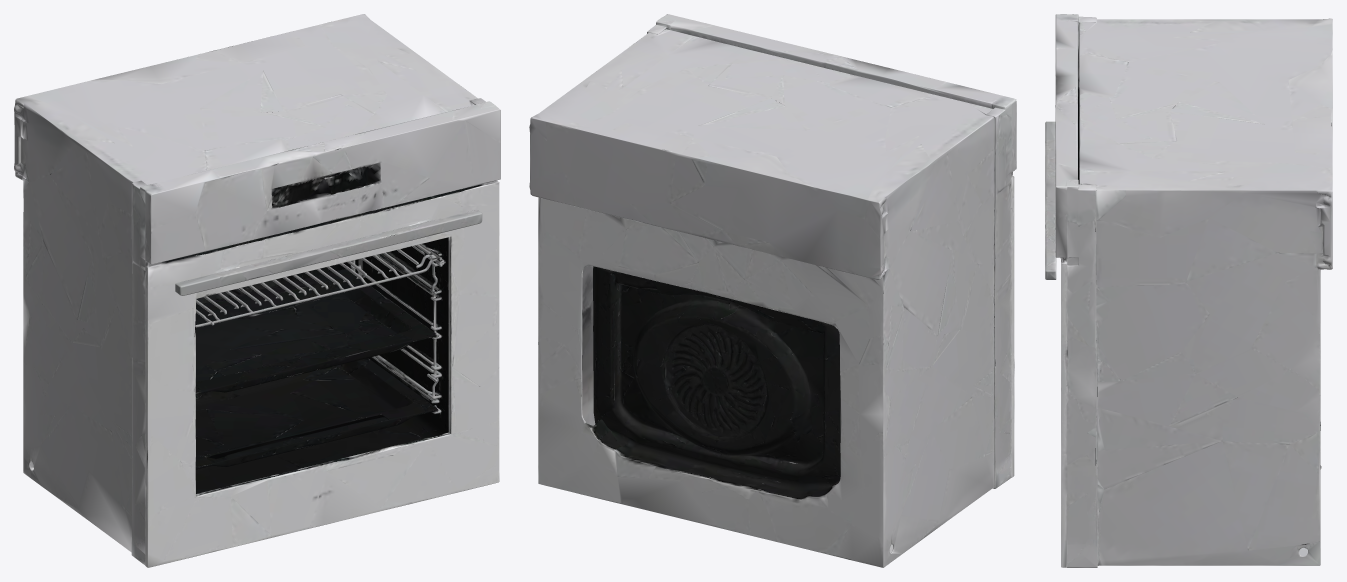
Rendered from backofen-01.glb.
3 renders of one model, left to right at view 1: azimuth 30°, elevation 25°; view 2: azimuth 150°, elevation 25°; view 3: azimuth 270°, elevation 25°, orthographic.
Bounding box in the file's own units: 1.87 × 1.9 × 1.3.
1 material, 1 textured.
